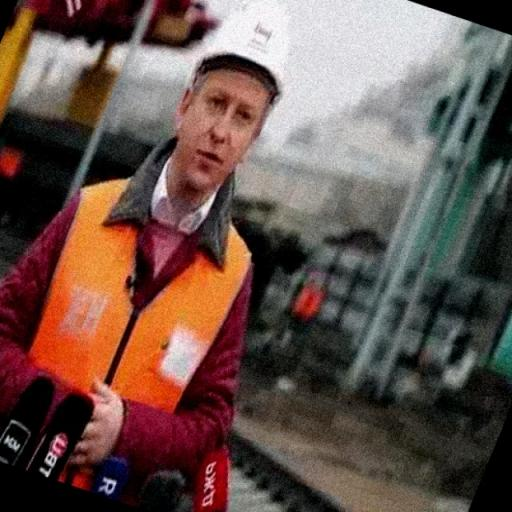Person: (0, 13, 343, 512)
helmet: (188, 15, 304, 95)
none: (50, 364, 129, 466), (182, 75, 274, 132)
vest: (32, 180, 258, 458)
